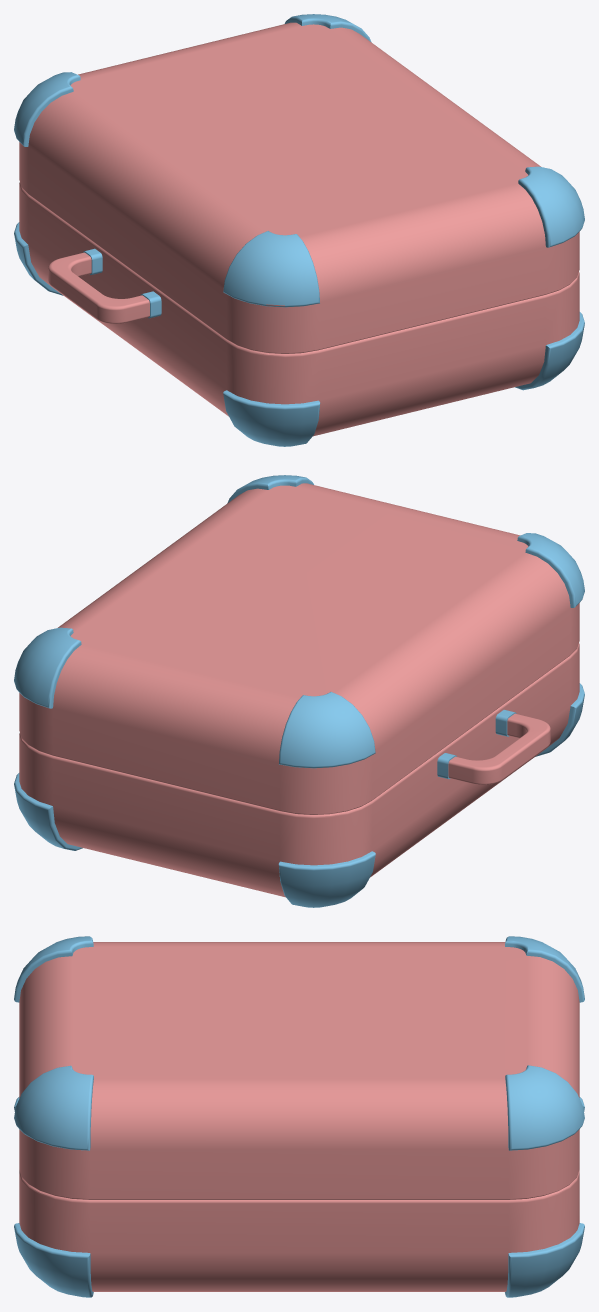
The model's file is suitcase (1).fbx.
3 views of the same model, one above another, from view 1: azimuth 30°, elevation 25°; view 2: azimuth 150°, elevation 25°; view 3: azimuth 270°, elevation 25° (orthographic). The views are drawn at different scales.
Parts seen in each view (by area): view 1: polySurface2, polySurface1; view 2: polySurface2, polySurface1; view 3: polySurface2, polySurface1.
Boxes of the visible parts, box(x1,y1,x2,y2) form: polySurface2: box(14, 14, 584, 353); polySurface1: box(14, 182, 584, 446); polySurface2: box(14, 475, 584, 814); polySurface1: box(14, 643, 584, 907); polySurface2: box(14, 936, 584, 1199); polySurface1: box(14, 1097, 584, 1297).
Size of the model in its own units: 6.19 by 3.12 by 7.22.
